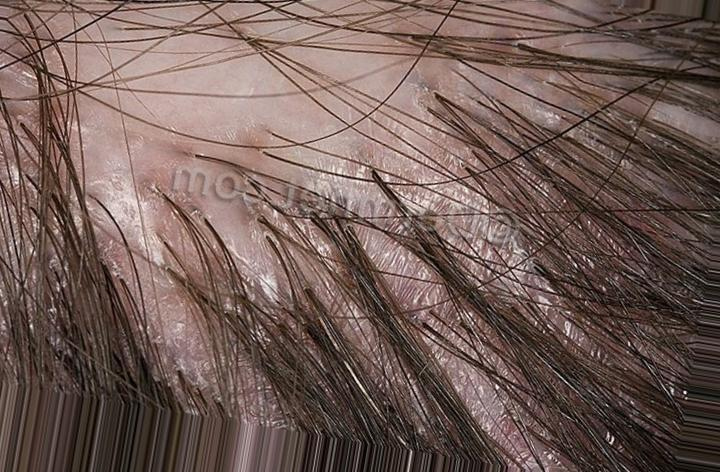Folliculitis: (76, 46, 491, 400)
